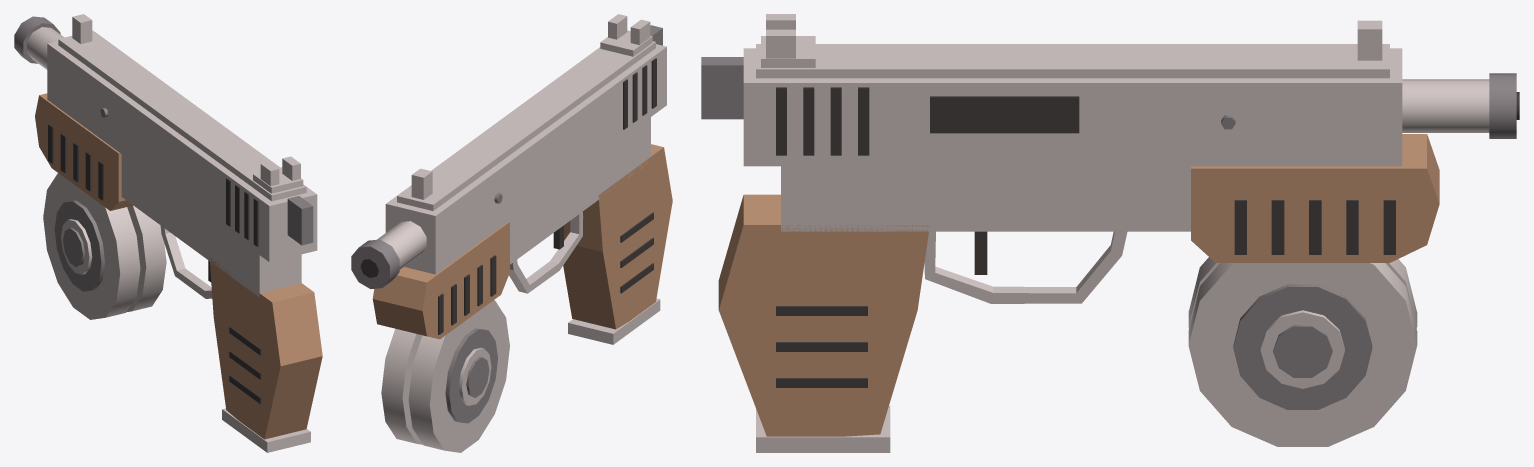
File: drum_pistol_assembled.glb
3 views of the same model, side by side, from view 1: azimuth 30°, elevation 25°; view 2: azimuth 150°, elevation 25°; view 3: azimuth 270°, elevation 25° (orthographic). The views are drawn at different scales.
Visible parts, largest first — view 1: slide, grip, drum, frame, forend, barrel, rear_sight; view 2: slide, grip, drum, forend, frame, barrel, rear_sight; view 3: slide, grip, drum, frame, forend, barrel, rear_sight.
Part boxes in pixels (bbox=[...]): slide: bbox=[47, 14, 317, 262]; grip: bbox=[209, 257, 322, 452]; drum: bbox=[43, 173, 166, 319]; frame: bbox=[121, 154, 301, 298]; forend: bbox=[35, 93, 132, 210]; barrel: bbox=[14, 16, 64, 69]; rear_sight: bbox=[253, 156, 303, 193]; slide: bbox=[385, 25, 666, 274]; grip: bbox=[563, 144, 672, 344]; drum: bbox=[381, 300, 509, 452]; forend: bbox=[372, 221, 509, 339]; frame: bbox=[508, 117, 650, 293]; barrel: bbox=[351, 221, 426, 288]; rear_sight: bbox=[600, 14, 652, 56]; slide: bbox=[701, 20, 1402, 166]; grip: bbox=[718, 194, 929, 452]; drum: bbox=[1188, 257, 1417, 446]; frame: bbox=[781, 166, 1190, 303]; forend: bbox=[1191, 134, 1439, 262]; barrel: bbox=[1402, 73, 1519, 138]; rear_sight: bbox=[761, 14, 815, 67].
Size of the model in its own units: 0.044 by 0.183 by 0.3292.
